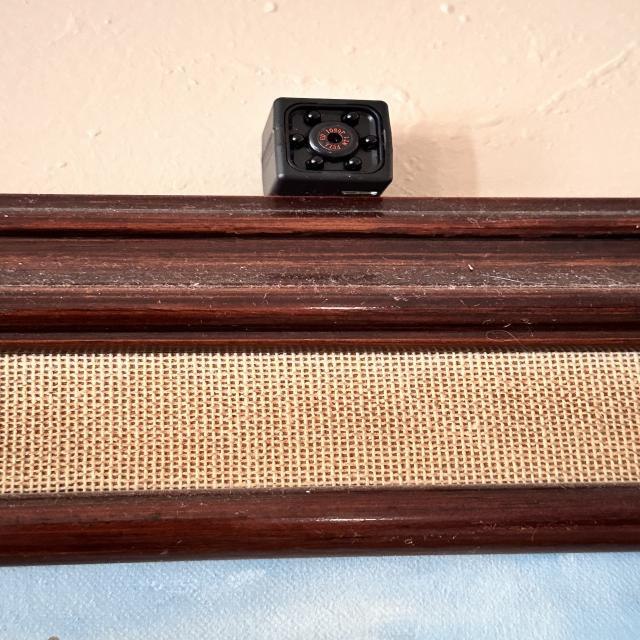hidden camera: (310, 121, 359, 156)
